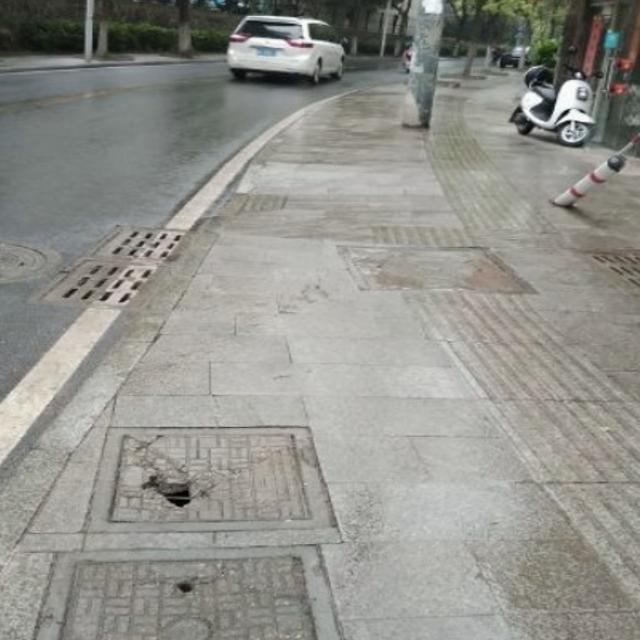broke: (20, 544, 351, 640), (77, 425, 343, 530)
